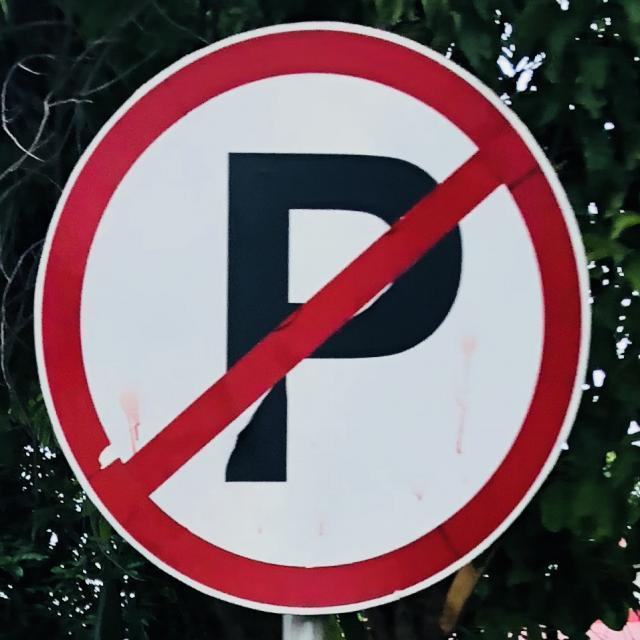no parking: (39, 29, 583, 607)
